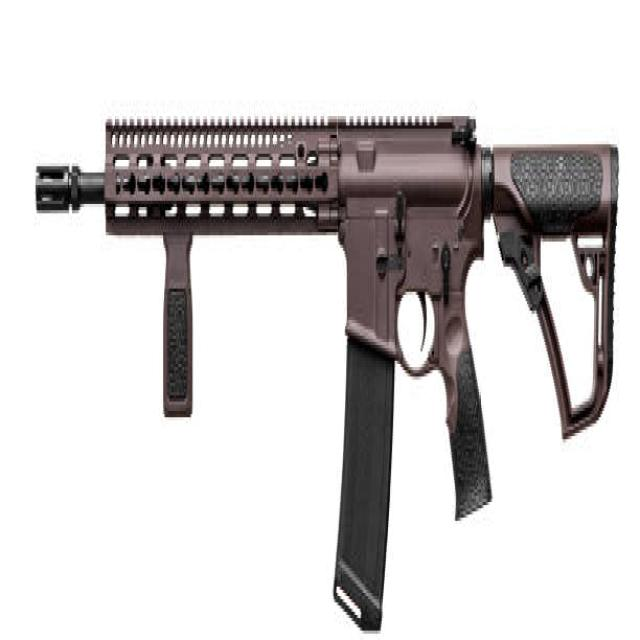rifle: (30, 95, 623, 640)
